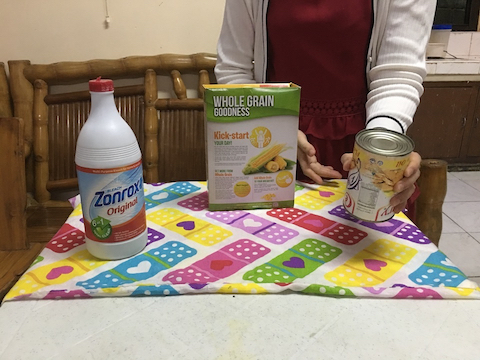bottle: (74, 76, 151, 262)
box: (199, 77, 304, 212)
can: (340, 126, 414, 224)
grab: (386, 150, 424, 216)
